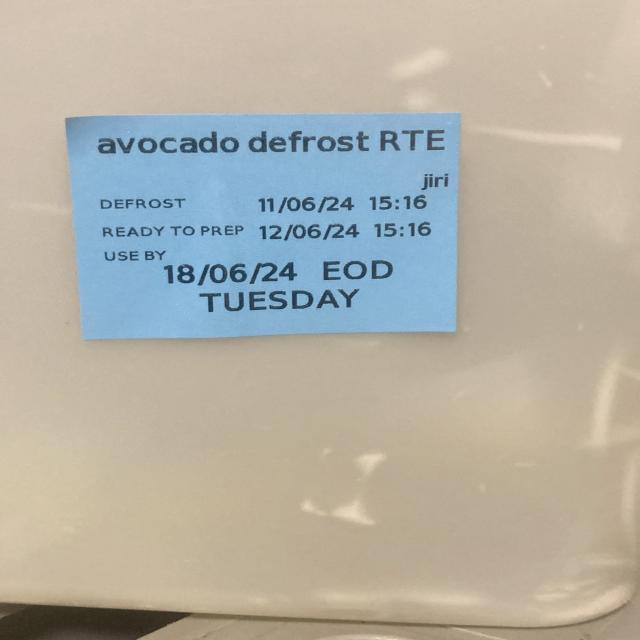product-labels: (67, 115, 461, 334)
